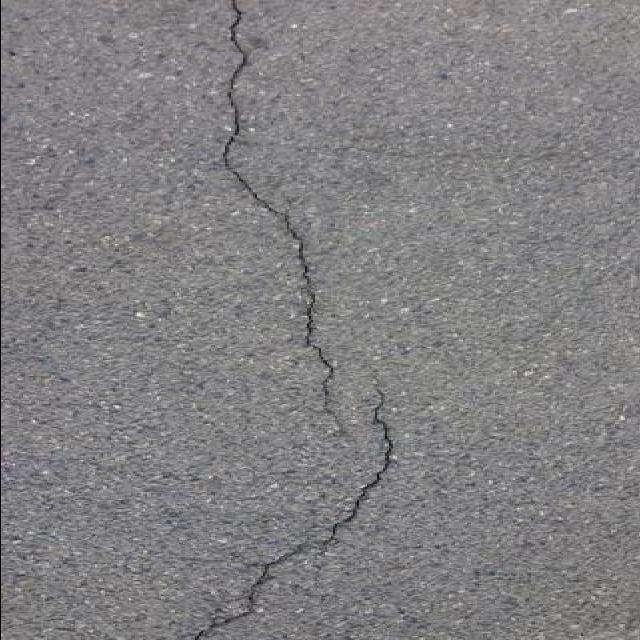Crack: (187, 0, 396, 639)
